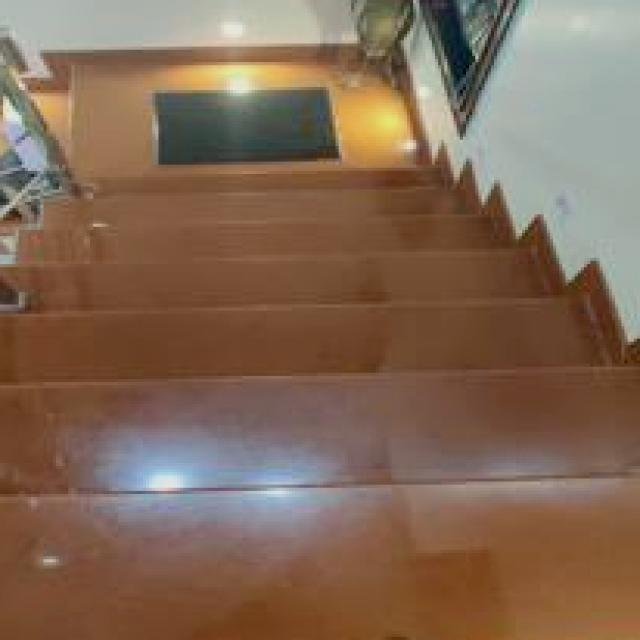downstair: (63, 293, 526, 548)
